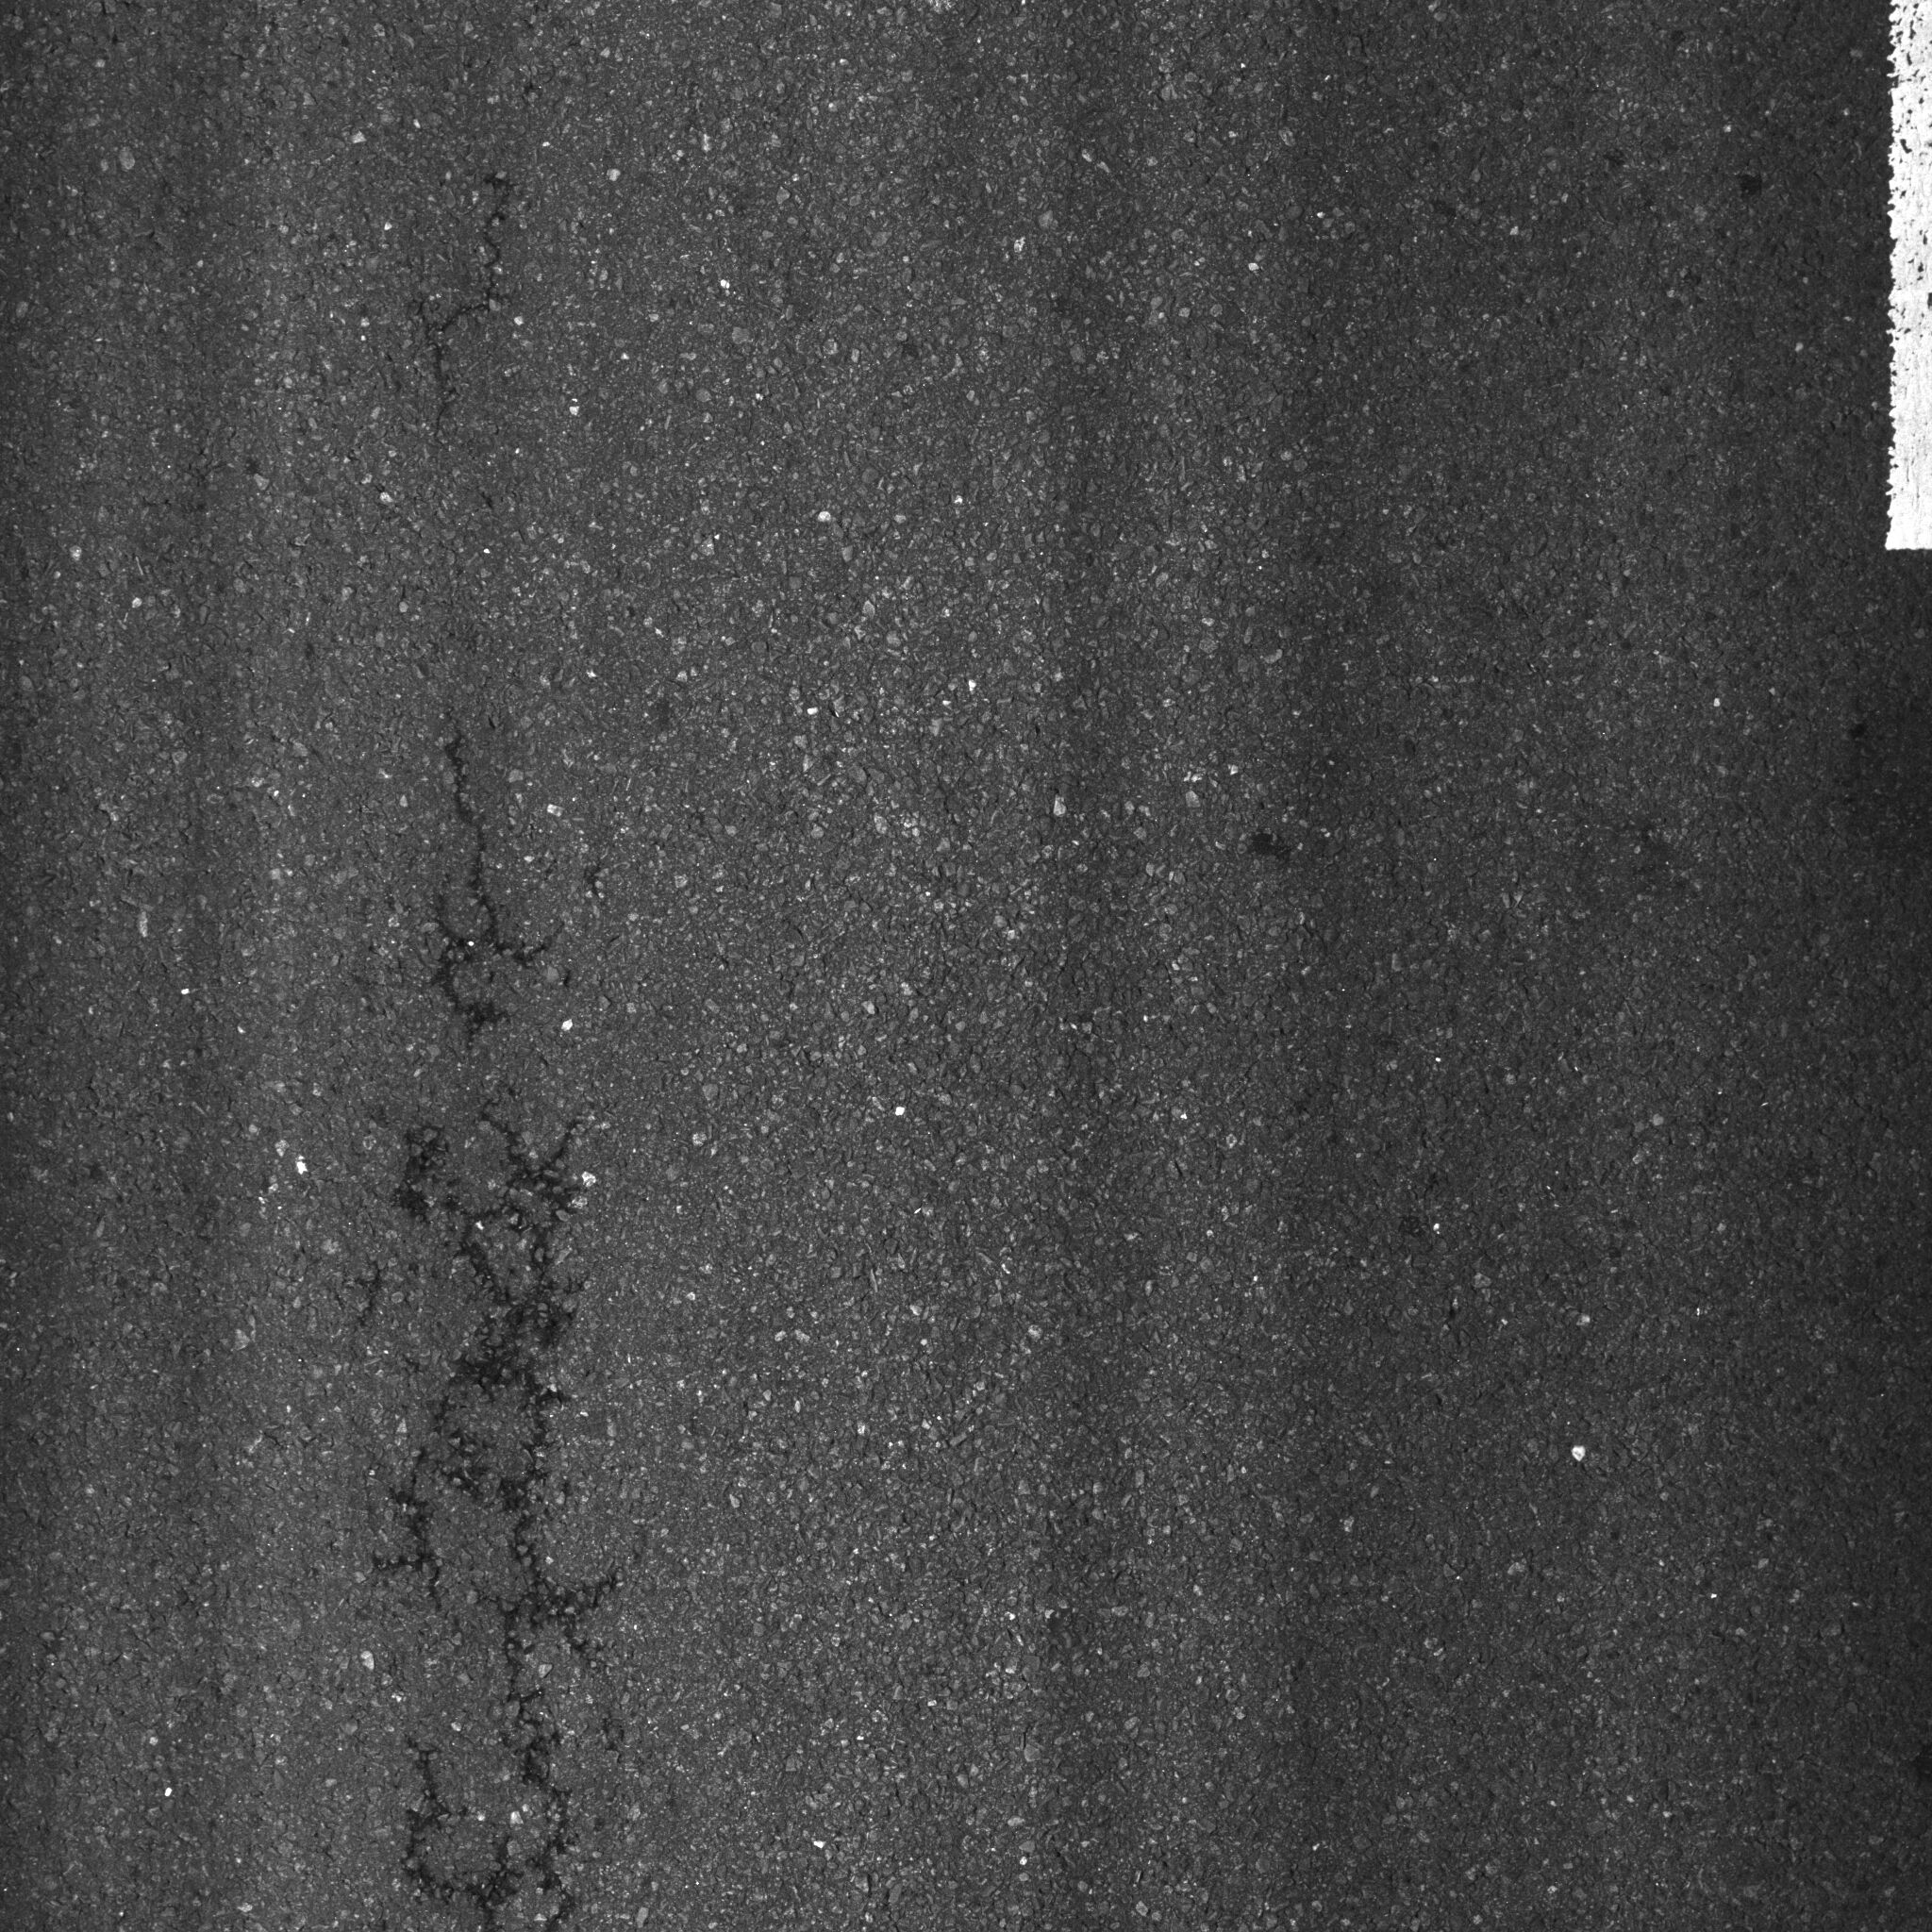alligator: (304, 686, 674, 1932)
